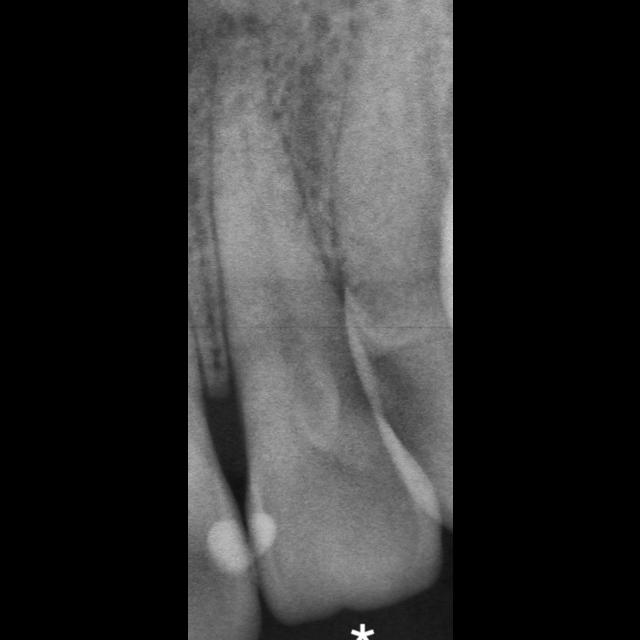tooth: (210, 32, 442, 627)
